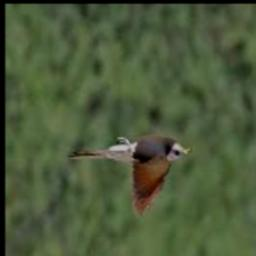Cuckoo: (68, 137, 191, 217)
